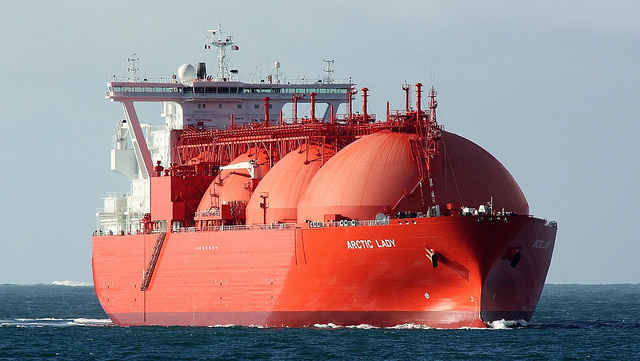LNG_ship: (91, 29, 562, 332)
